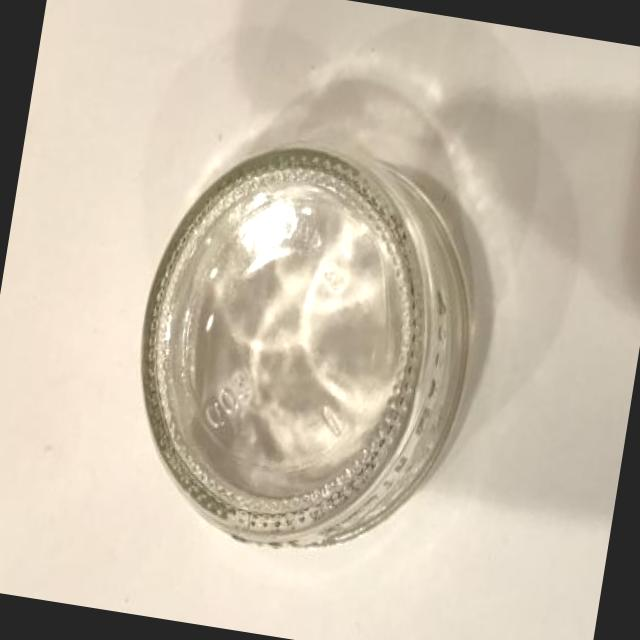chai_thuy_tinh: (142, 148, 472, 549)
